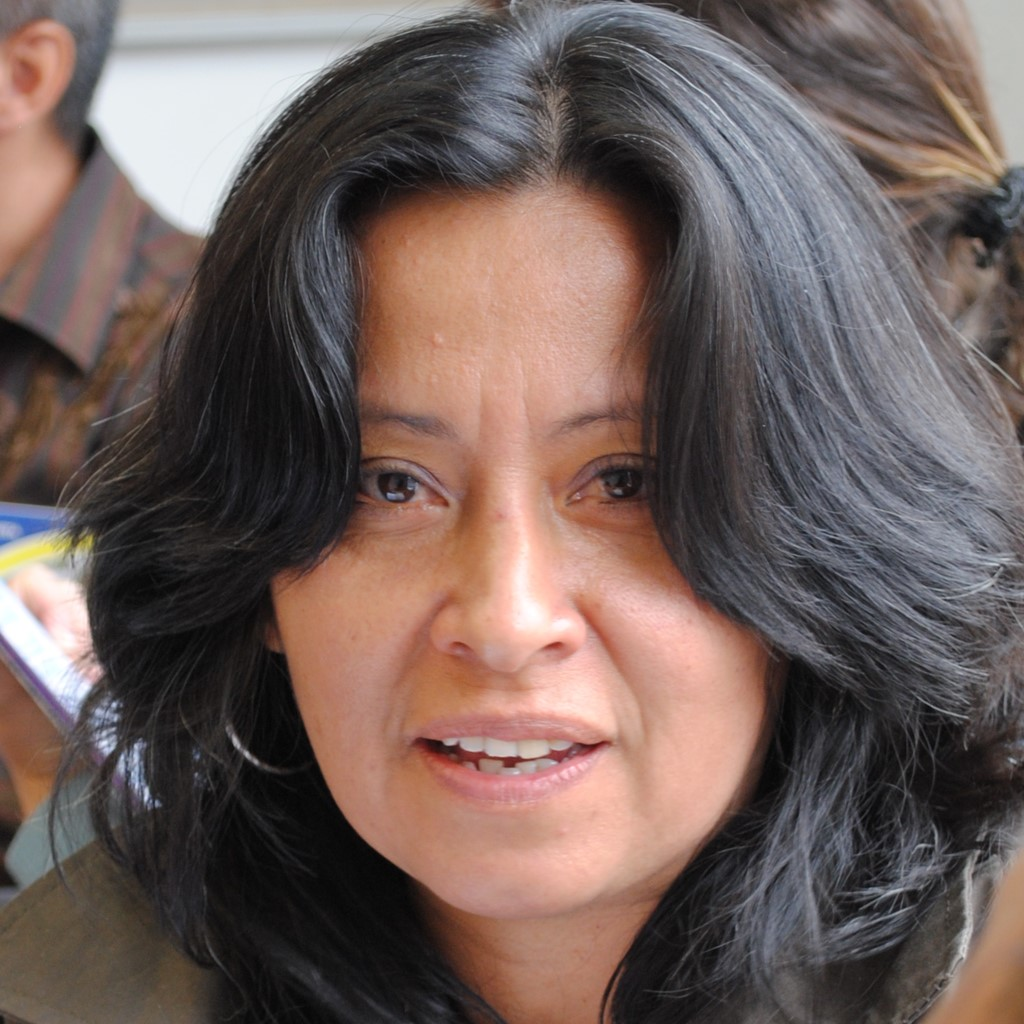sin_mascara: (234, 156, 810, 922)
